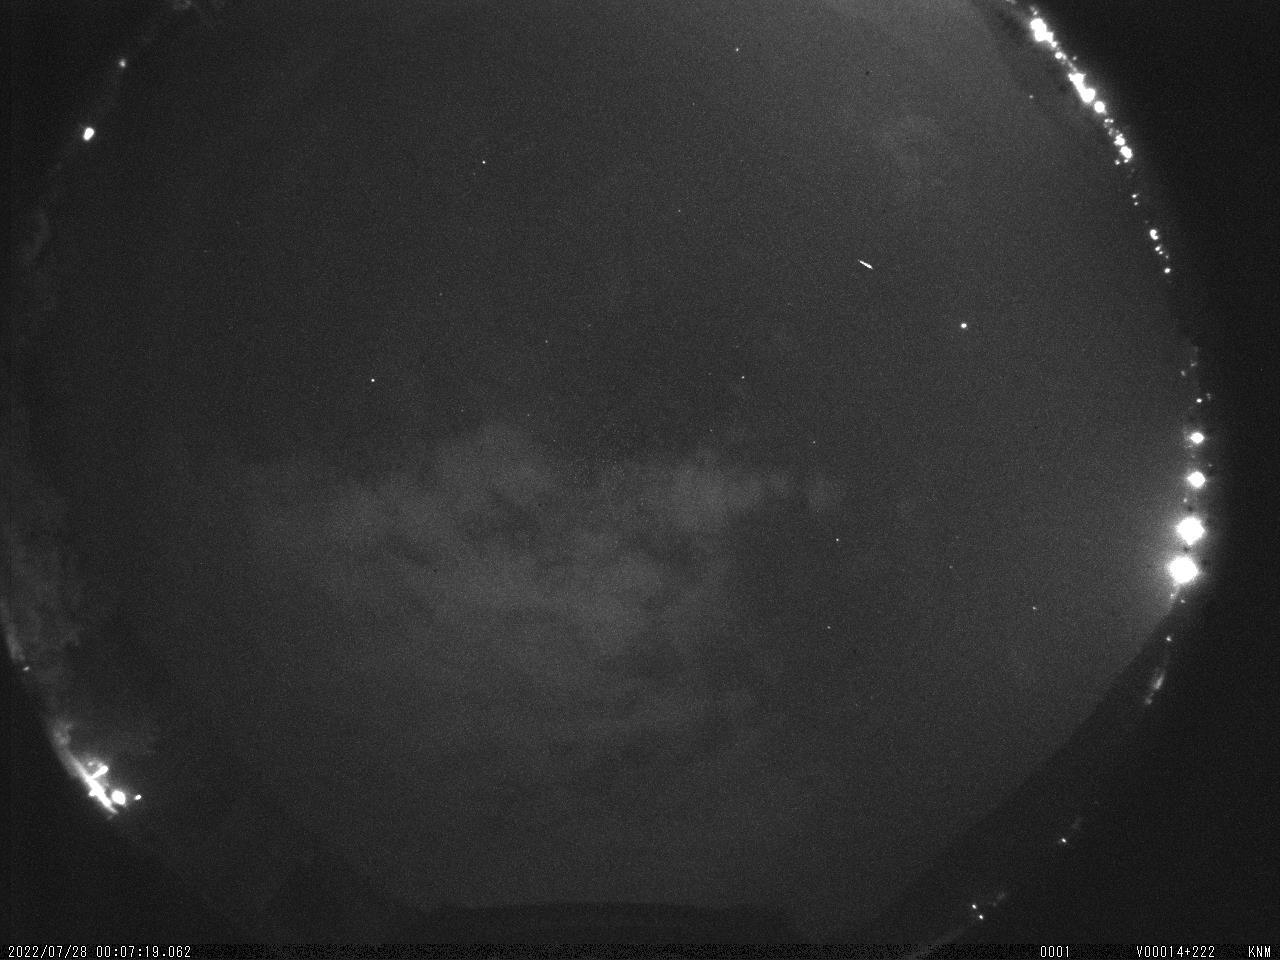Meteor: (849, 251, 882, 280)
